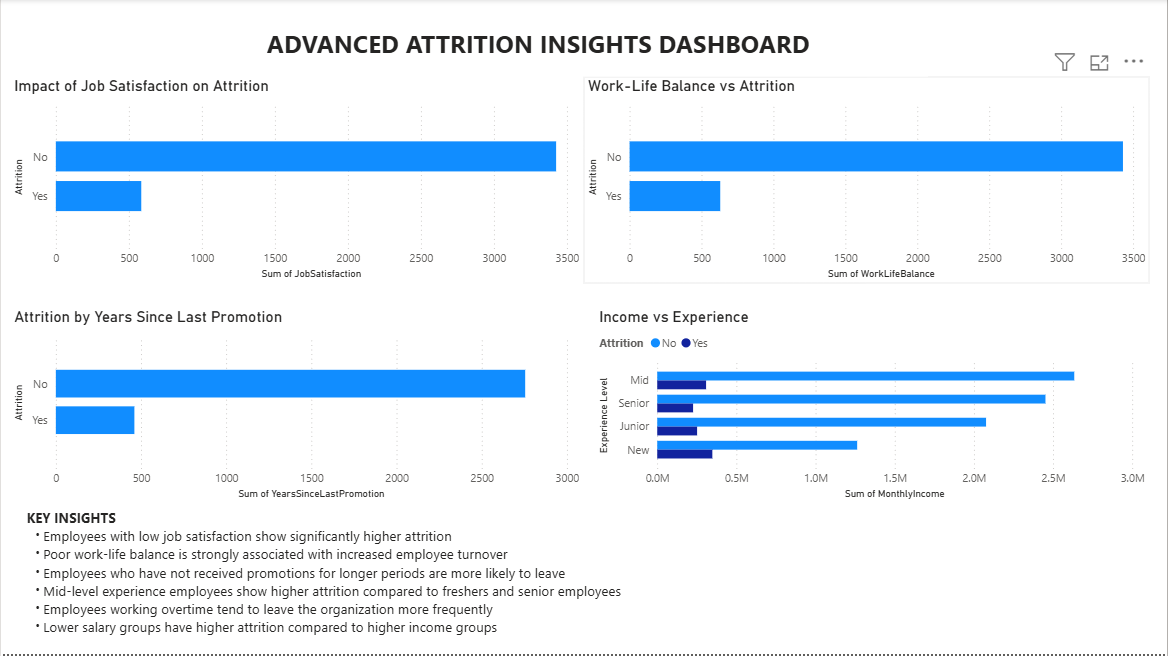

The page's visual inventory and layout, read from the dashboard file:
{"tool":"powerbi","page":{"name":"Advanced Insights","canvas":[1280,720],"ordinal":2},"visuals":[{"type":"clusteredBarChart","title":"Impact of Job Satisfaction on Attrition","fields":{"Y":["Sum(HR-Employee-Attrition.JobSatisfaction)"],"Category":["HR-Employee-Attrition.Attrition"]},"box":[9.6,85.1,629.8,227.8],"z":0},{"type":"clusteredBarChart","title":"Work-Life Balance vs Attrition","fields":{"Y":["Sum(HR-Employee-Attrition.WorkLifeBalance)"],"Category":["HR-Employee-Attrition.Attrition"]},"box":[639.5,85.1,621.6,227.8],"z":1000},{"type":"clusteredBarChart","title":"Attrition by Years Since Last Promotion","fields":{"Y":["Sum(HR-Employee-Attrition.YearsSinceLastPromotion)"],"Category":["HR-Employee-Attrition.Attrition"]},"box":[9.6,338.9,629.8,215.4],"z":2000},{"type":"textbox","box":[286.8,26.1,730,59],"z":2001},{"type":"clusteredBarChart","title":"Income vs Experience","fields":{"Y":["Sum(HR-Employee-Attrition.MonthlyIncome)"],"Category":["HR-Employee-Attrition.Experience Level"],"Series":["HR-Employee-Attrition.Attrition"]},"box":[651.8,338.9,609.3,215.4],"z":2002},{"type":"textbox","box":[23.3,554.4,1053.9,155.1],"z":2003}]}

Visuals, with their boxes on the page's 1280x720 design canvas (x1, y1, x2, y2). These are canvas units, not pixel positions in the 1168x656 screenshot, which may show the page scaled, cropped or inside an application window:
"Impact of Job Satisfaction on Attrition" clusteredBarChart: rect(10, 85, 639, 313)
"Work-Life Balance vs Attrition" clusteredBarChart: rect(640, 85, 1261, 313)
"Attrition by Years Since Last Promotion" clusteredBarChart: rect(10, 339, 639, 554)
textbox: rect(287, 26, 1017, 85)
"Income vs Experience" clusteredBarChart: rect(652, 339, 1261, 554)
textbox: rect(23, 554, 1077, 710)
